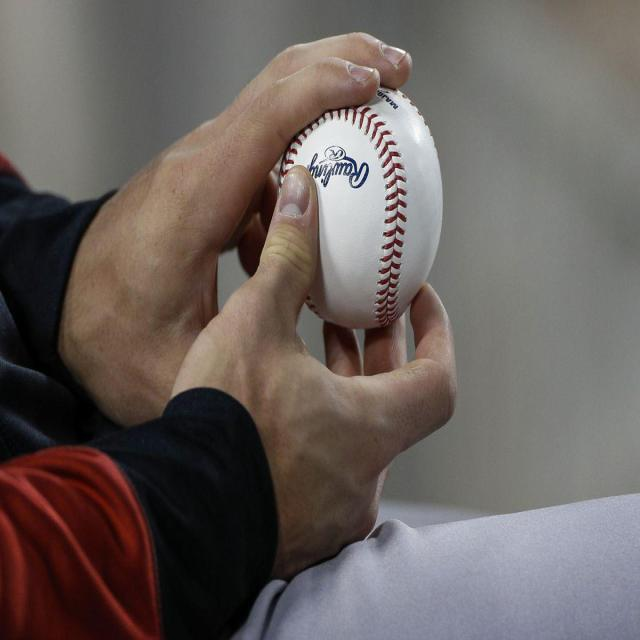ball: (274, 84, 456, 333)
